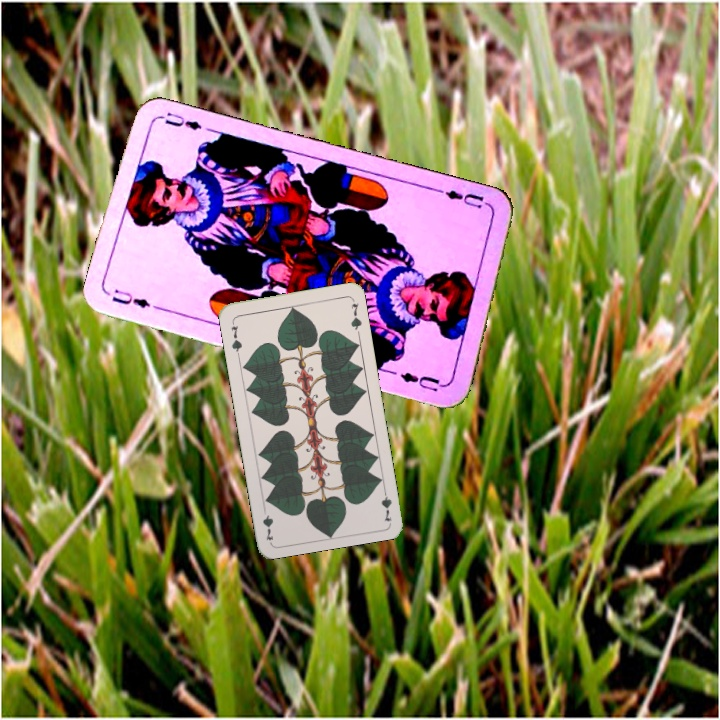EU: (435, 185, 493, 211), (108, 285, 153, 311)
G7: (227, 317, 245, 357), (377, 483, 394, 524)
